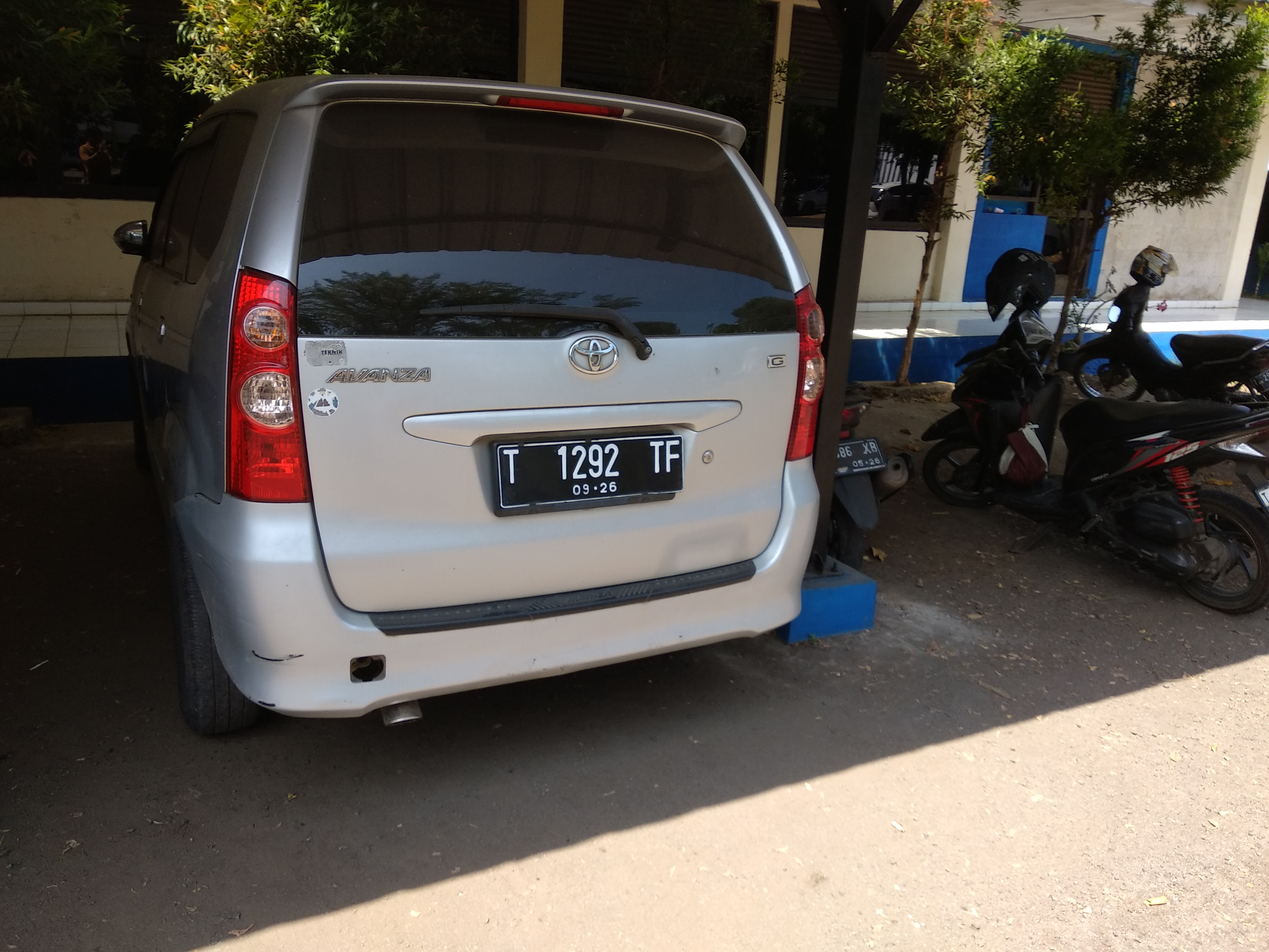plat nomor: (495, 437, 683, 510)
